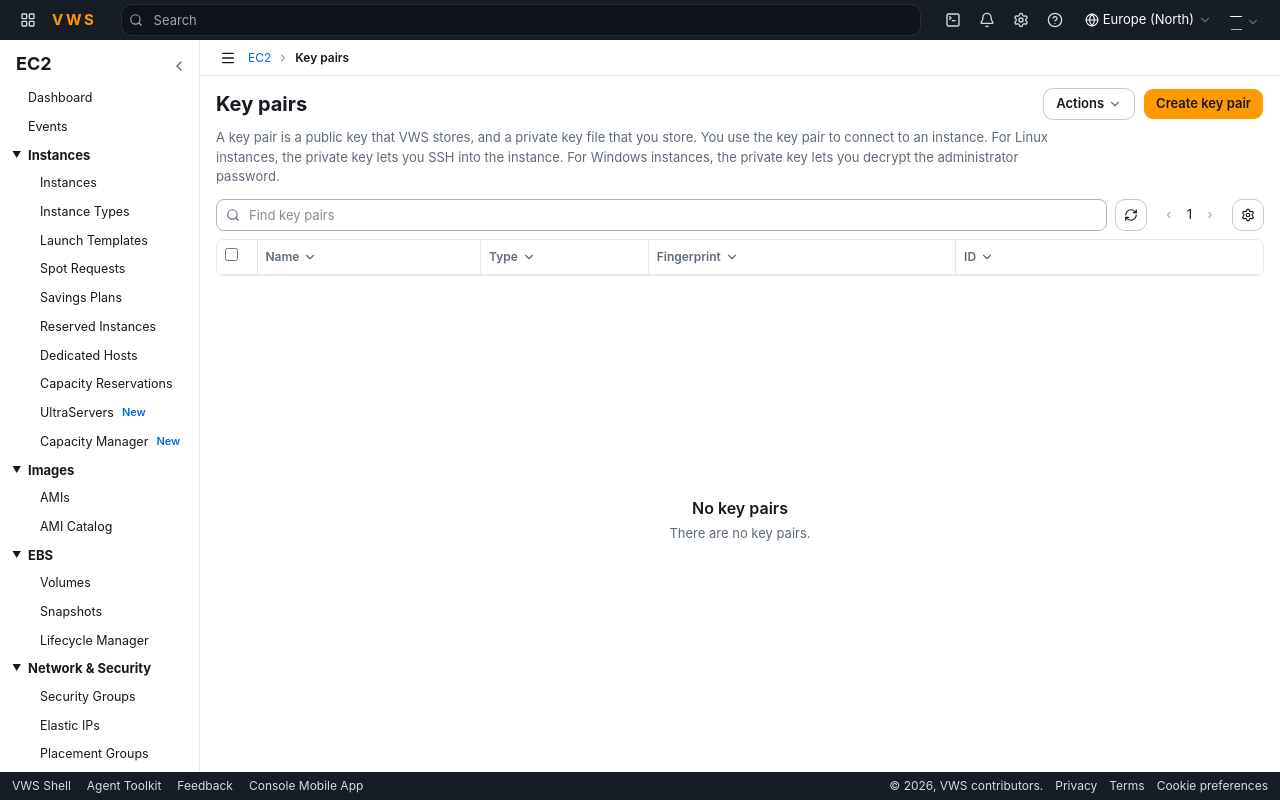
Test: key pair create recovery › shows a retryable error when the server action rejects
The width and height of the screenshot is (1280, 800).
Click the button "Create key pair" at (1204, 104), box 1143,88 -> 1264,120
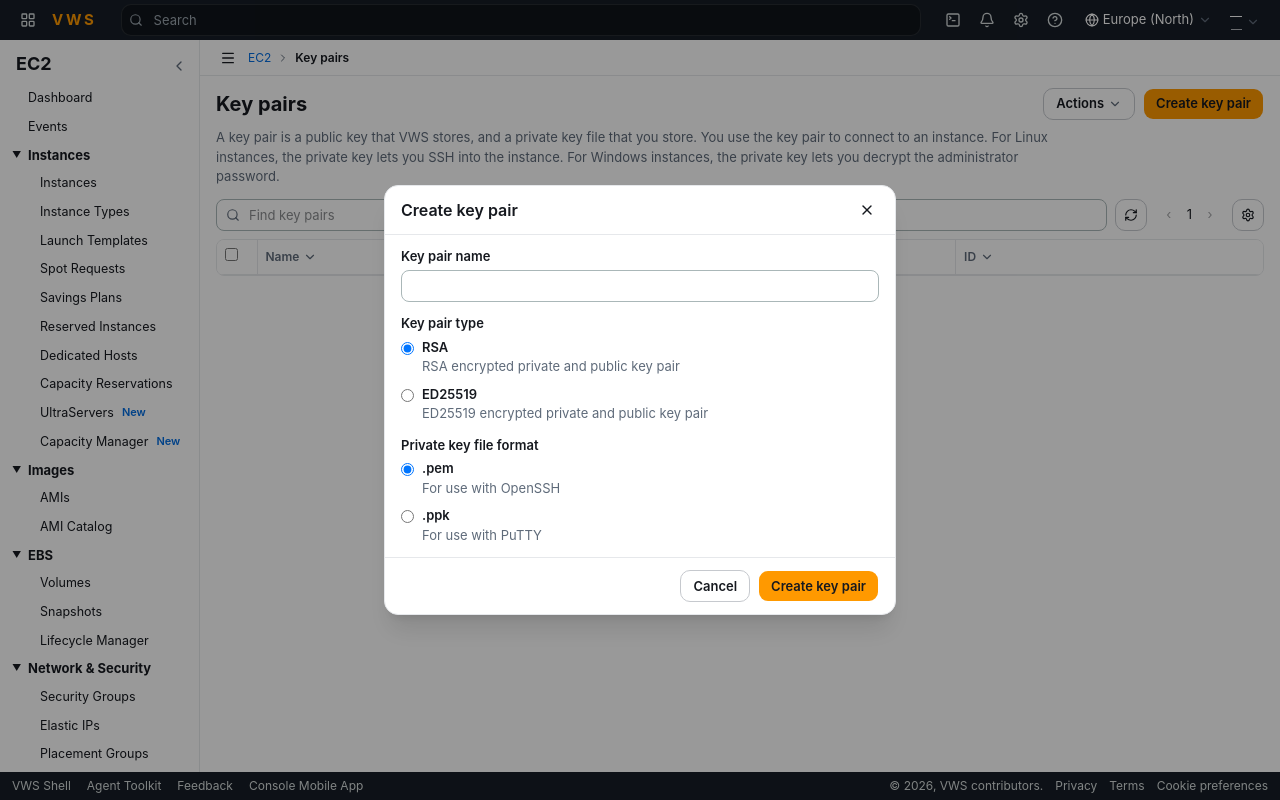
Type "web" into the field at (640, 286), box 401,270 -> 879,302
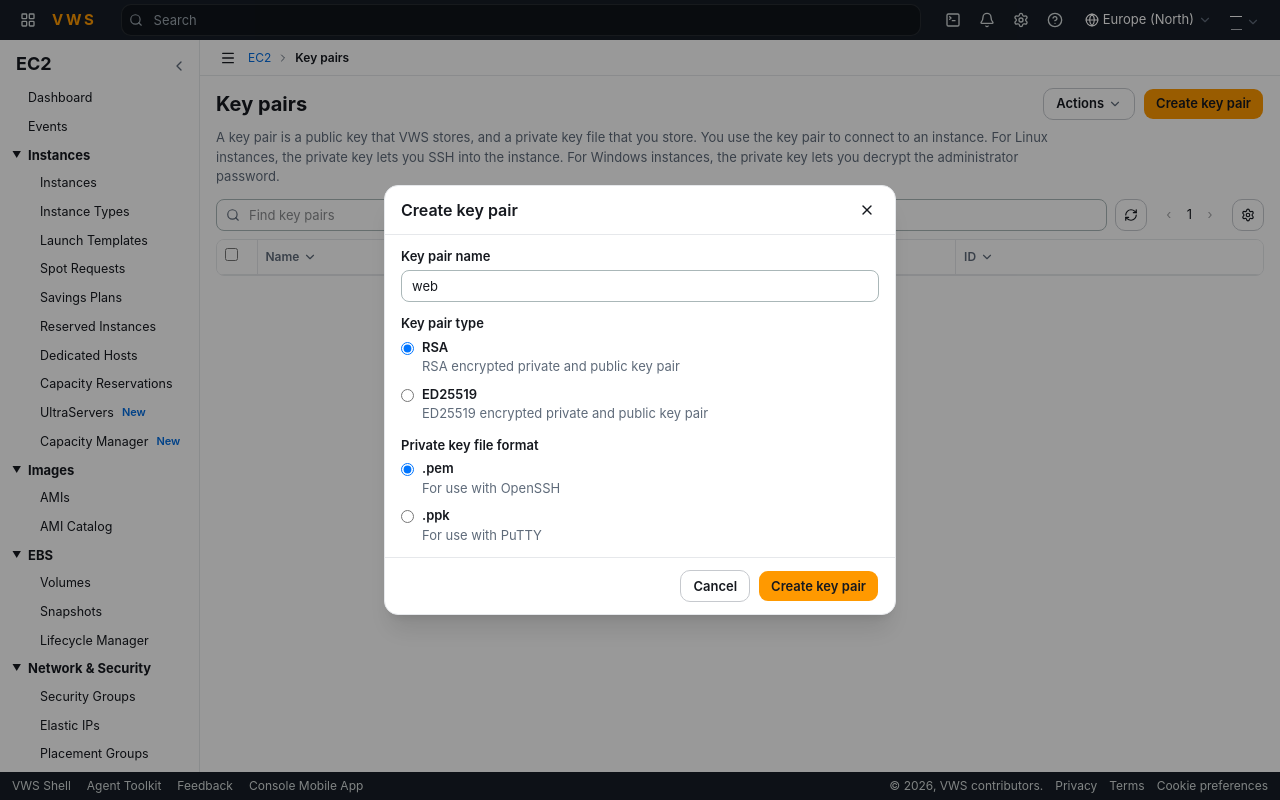
Click the button "Create key pair" at (819, 586), box 758,570 -> 879,602
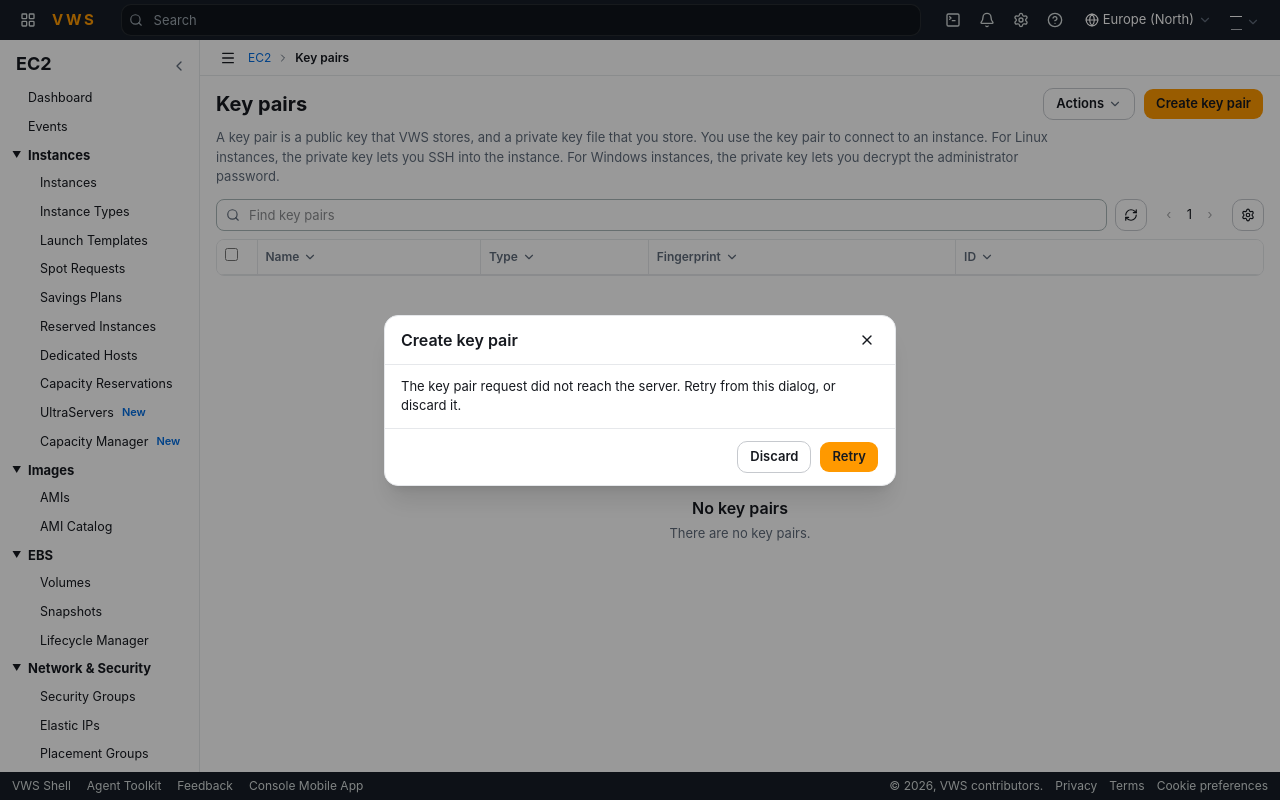
Expected: the text "The key pair request did not reach the server. Retry from this dialog, or discard it." is shown, 401,378 -> 836,413
Expected: the button "Retry" is shown, 819,440 -> 879,472
Expected: the button "Discard" is shown, 737,440 -> 811,472
